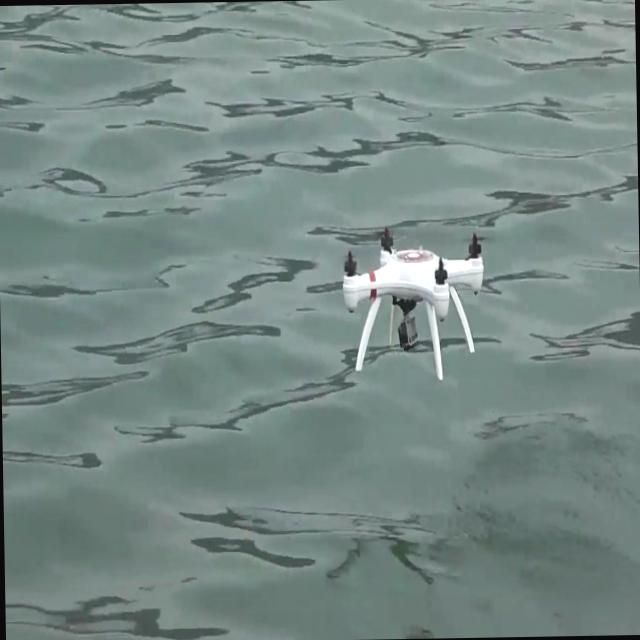drone: (340, 225, 486, 387)
